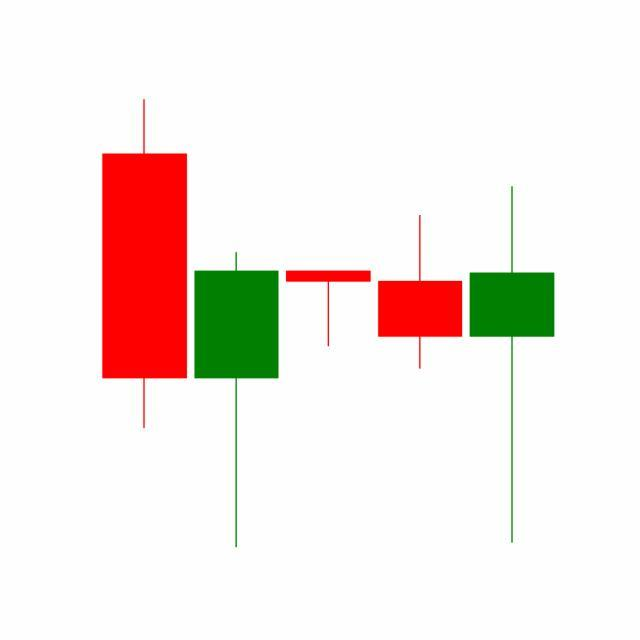Spinning Top: (466, 182, 559, 548)
